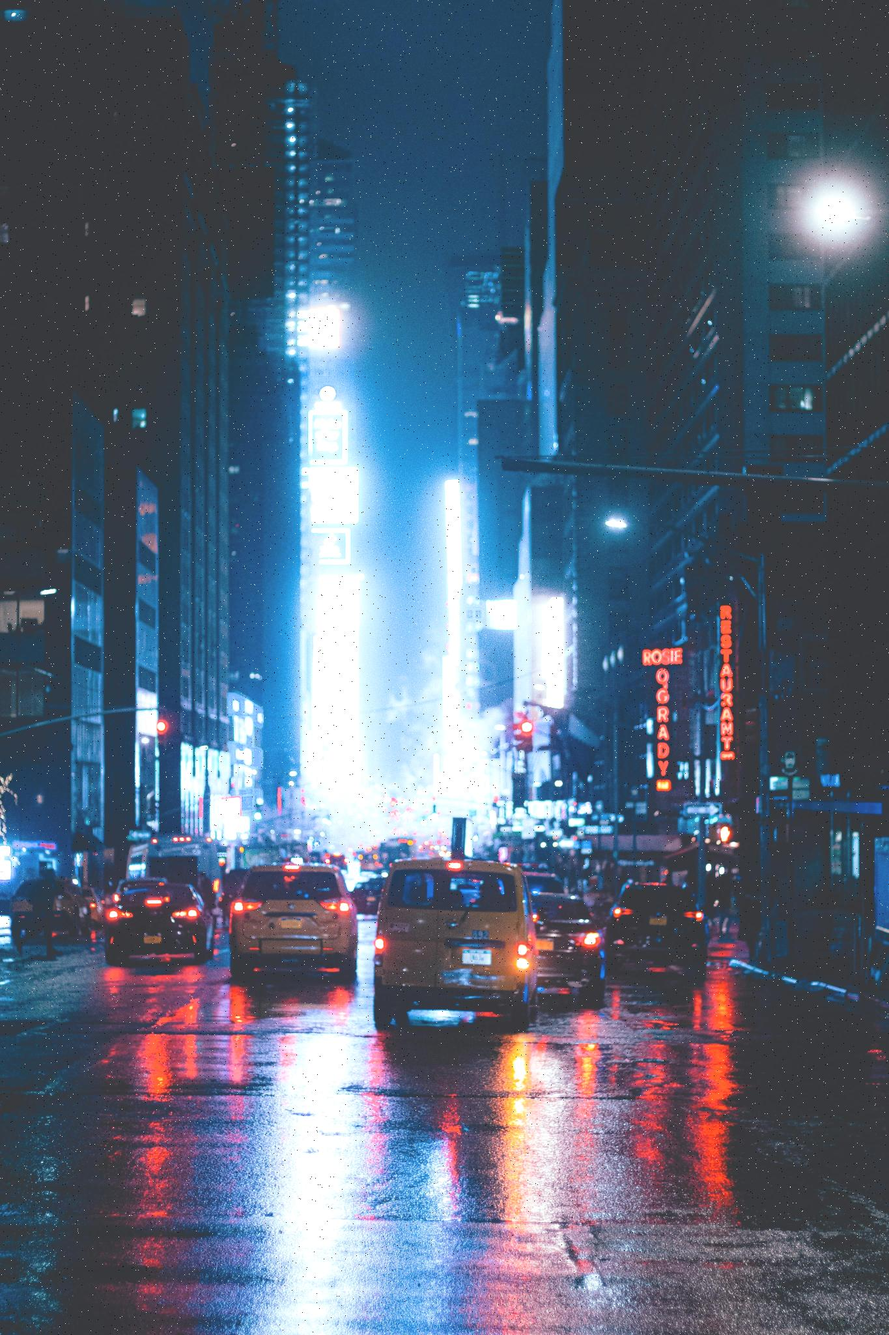car: (369, 852, 535, 1028), (225, 861, 360, 994), (96, 853, 220, 968), (600, 881, 707, 984), (528, 873, 608, 991), (10, 868, 95, 958), (52, 878, 97, 945), (355, 868, 390, 915)
